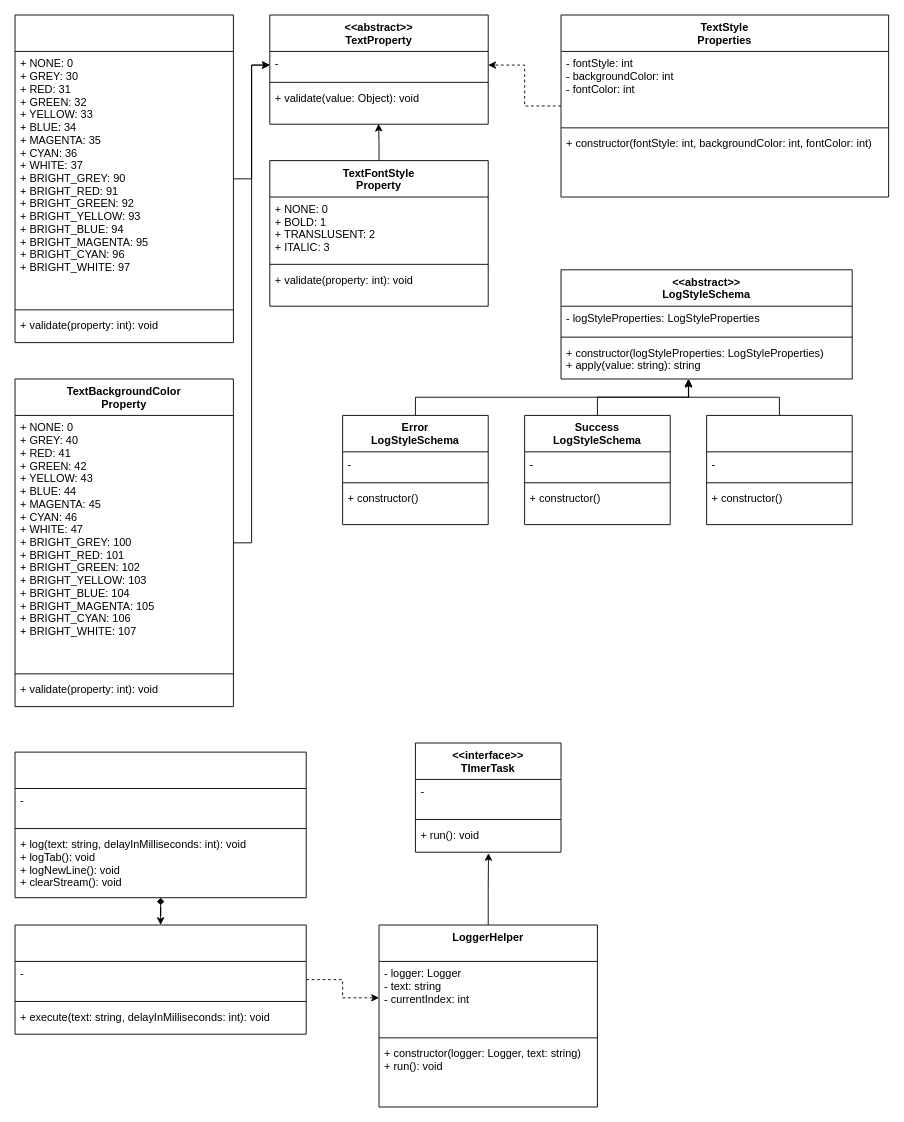
This 904x1122 diagram has some shape labels left out. Each missing label, with the box of its shape:
Console: (14, 751, 306, 898)
Info LogStyleSchema: (706, 415, 852, 525)
Logger: (14, 924, 306, 1034)
TextFontColor Property: (14, 14, 233, 343)
